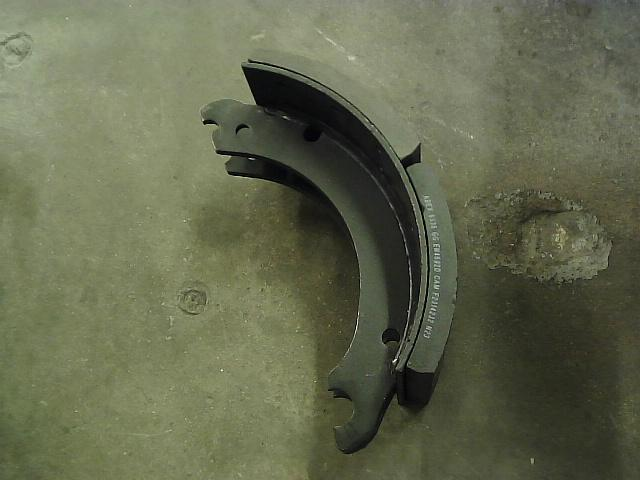brake-shoes: (199, 46, 460, 452)
